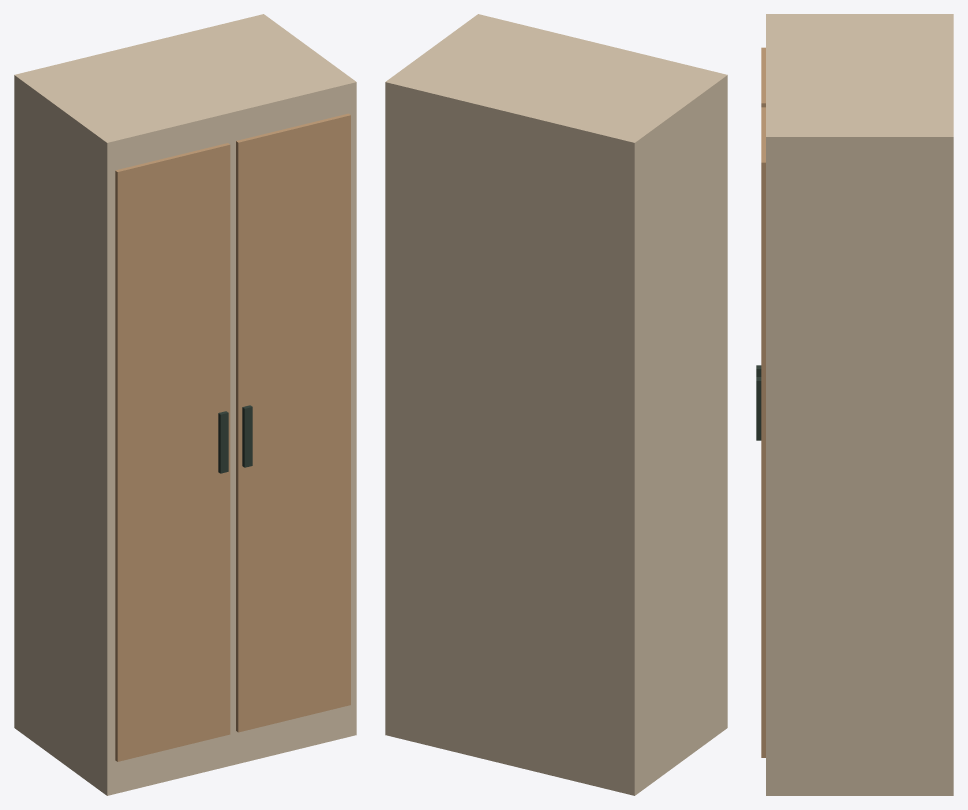
Rendered from wardrobe.glb.
The picture shows the model from 3 angles, left to right: view 1: azimuth 30°, elevation 25°; view 2: azimuth 150°, elevation 25°; view 3: azimuth 270°, elevation 25°; orthographic projection.
Visible parts, largest first — view 1: Wardrobe; view 2: Wardrobe; view 3: Wardrobe.
Boxes of the visible parts, bbox=[...] form: Wardrobe: bbox=[14, 14, 356, 795]; Wardrobe: bbox=[385, 14, 727, 795]; Wardrobe: bbox=[756, 14, 953, 795].
Bounding box in the file's own units: 0.62 × 1.55 × 0.42.
